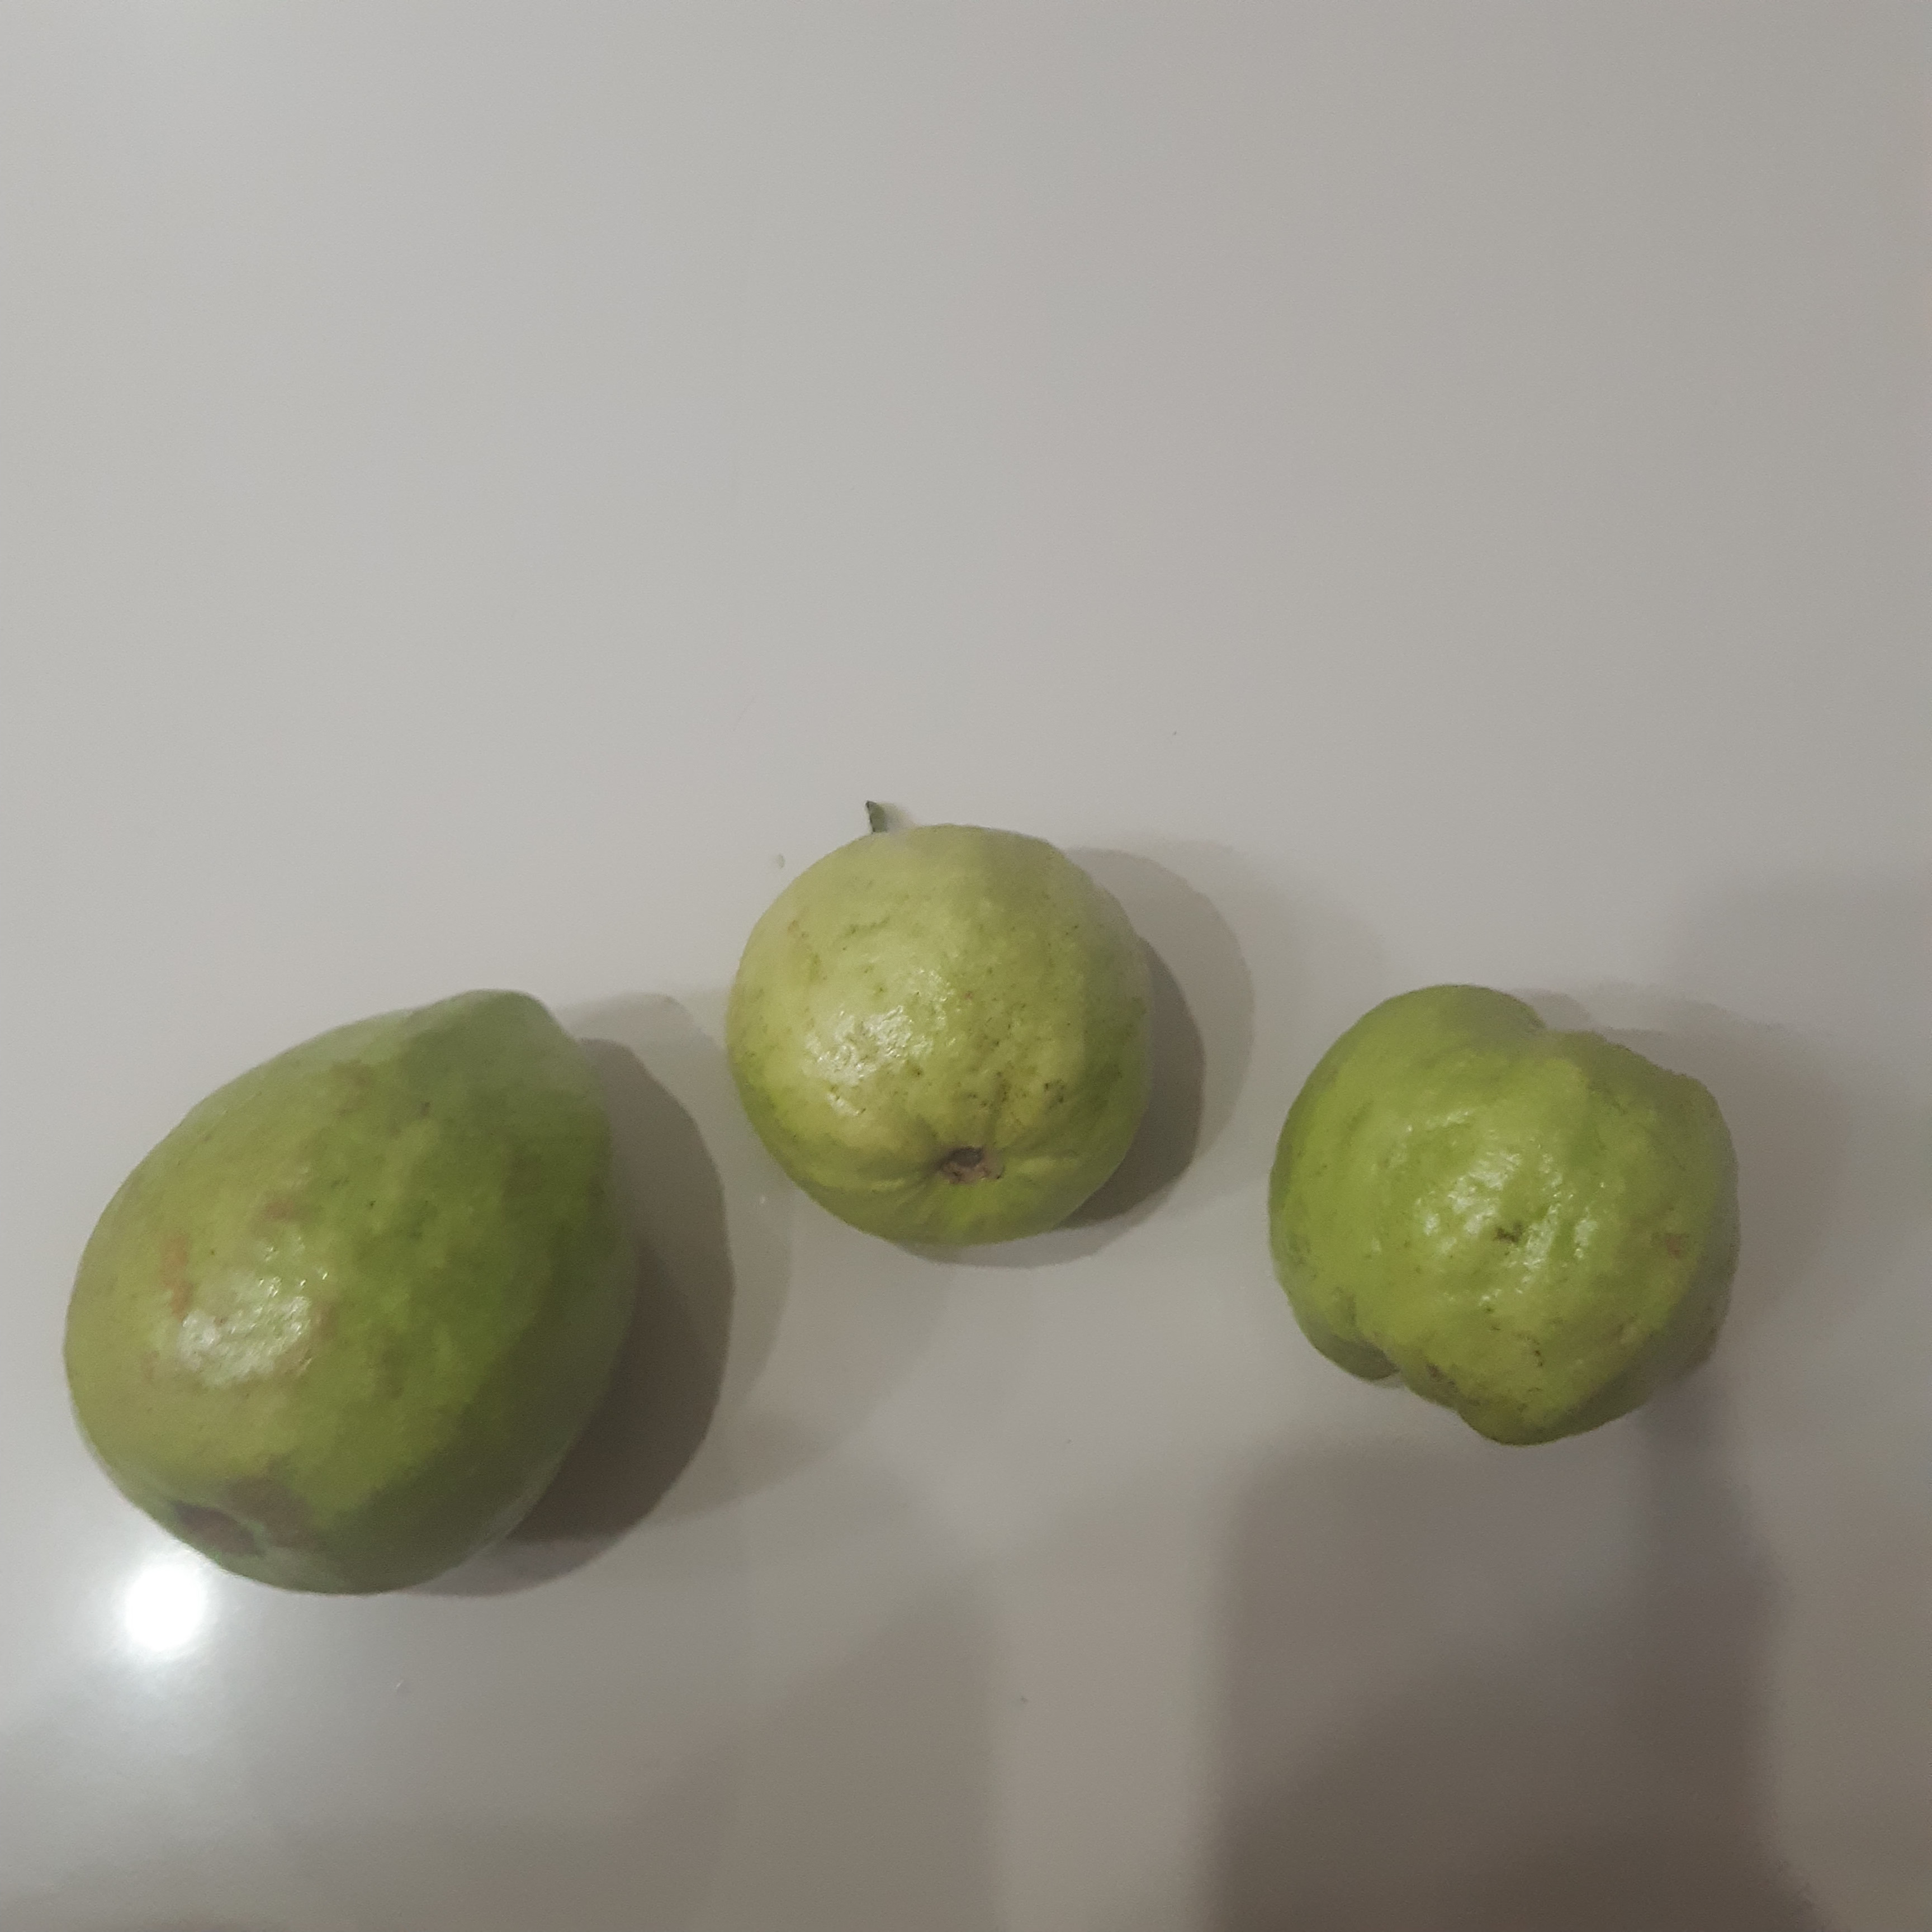Oi: (67, 996, 642, 1591), (1270, 980, 1741, 1449), (727, 821, 1157, 1247)
